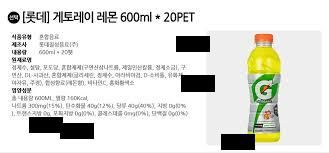gatorade_lemon: (246, 32, 282, 142)
